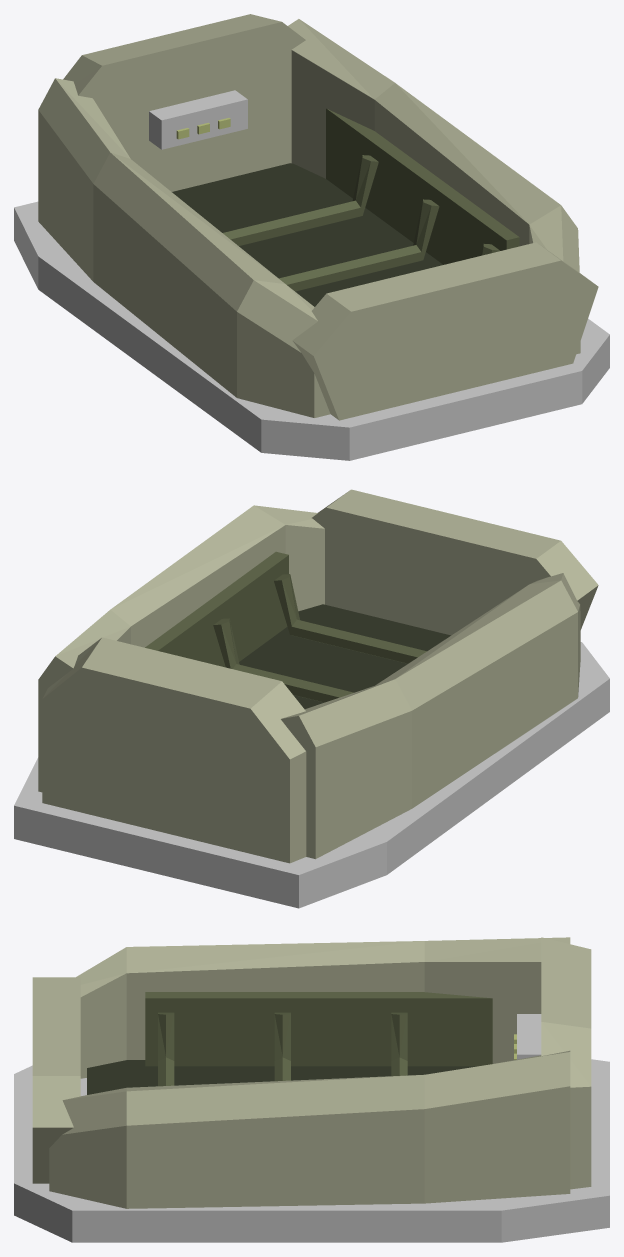
File: mech_capsule_open.obj
The picture shows the model from 3 angles, top to bottom: view 1: azimuth 30°, elevation 25°; view 2: azimuth 150°, elevation 25°; view 3: azimuth 270°, elevation 25°; orthographic projection. The views are drawn at different scales.
Visible parts, largest first — view 1: mech_capsule_open; view 2: mech_capsule_open; view 3: mech_capsule_open.
Part boxes in pixels (x1=…): mech_capsule_open: x1=14, y1=14, x2=609, y2=460; mech_capsule_open: x1=14, y1=489, x2=609, y2=908; mech_capsule_open: x1=14, y1=937, x2=609, y2=1242.
Bounding box in the file's own units: 1.86 × 0.96 × 2.86.
